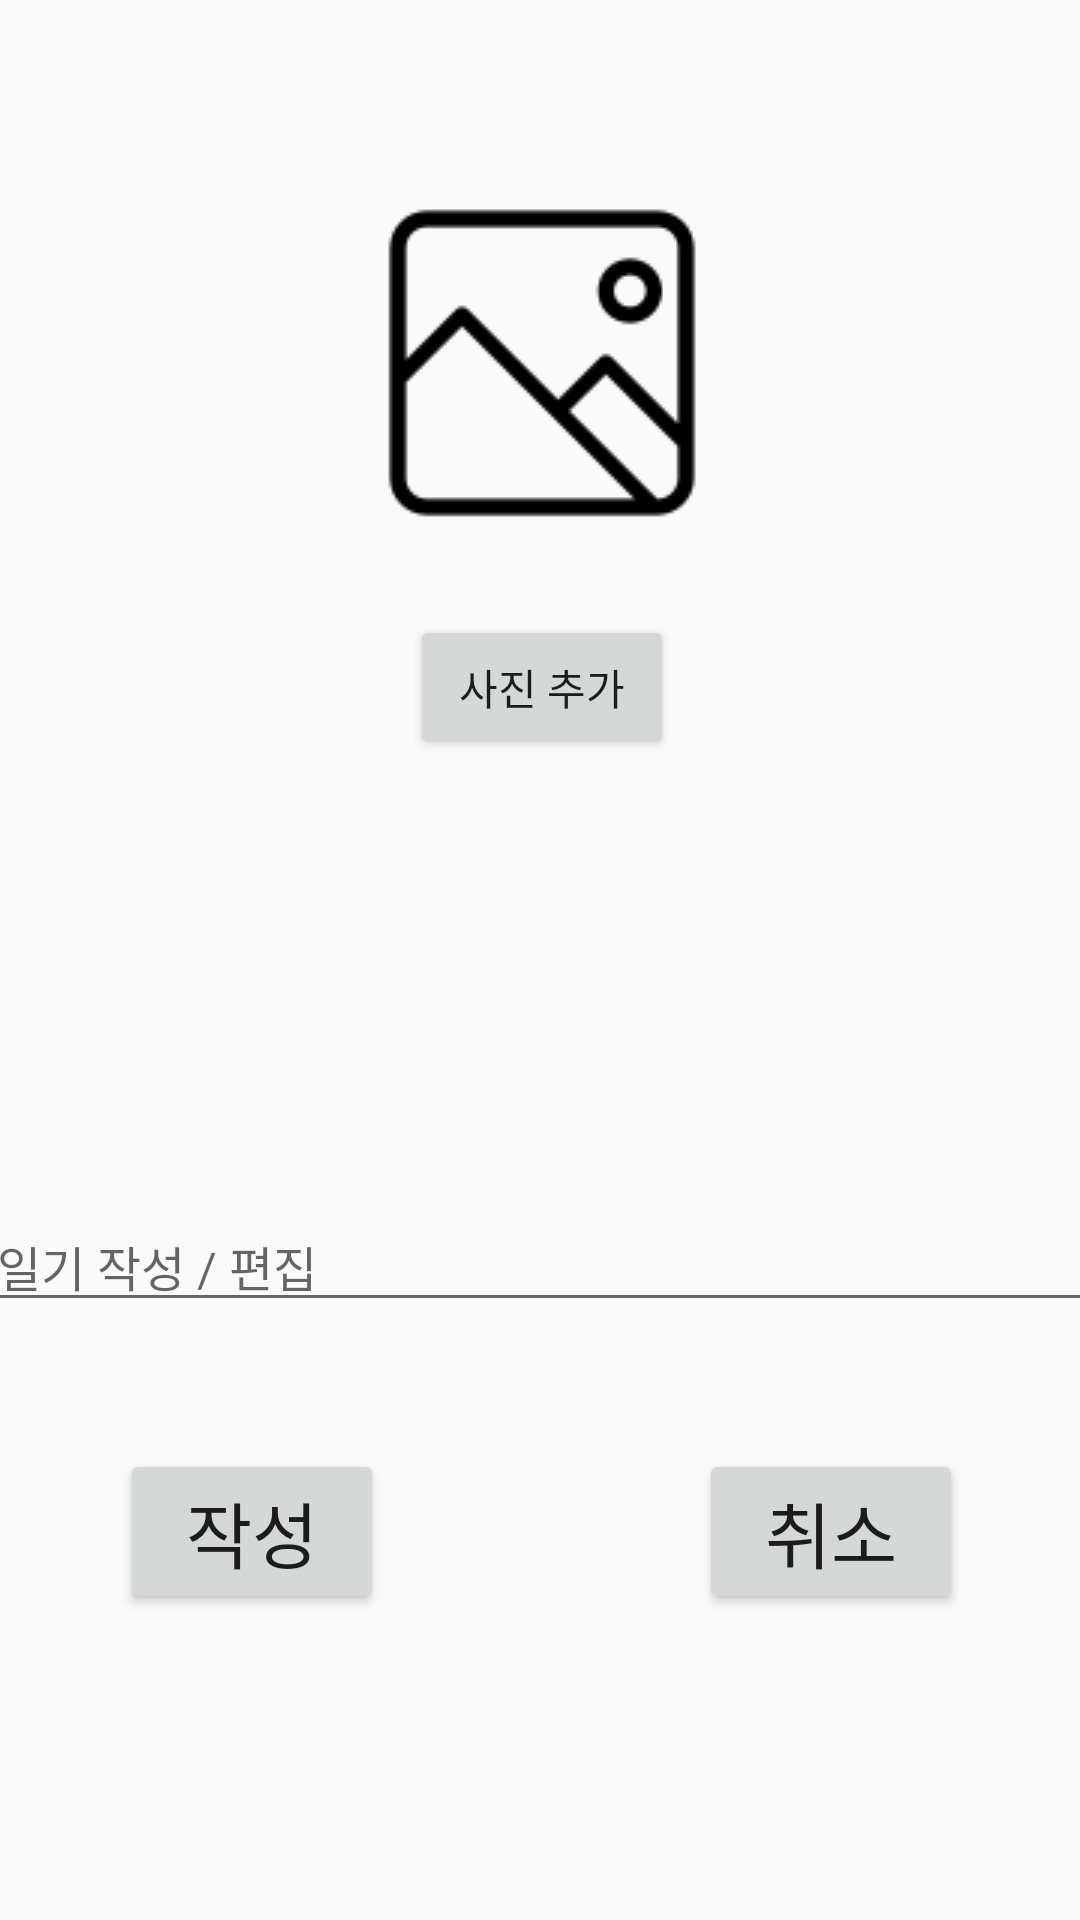

Icon bounding boxes for this 1080px x 1920px phone screenshot, format bbox(x1, y1, x2, y2):
gallery: bbox(388, 209, 696, 517)
